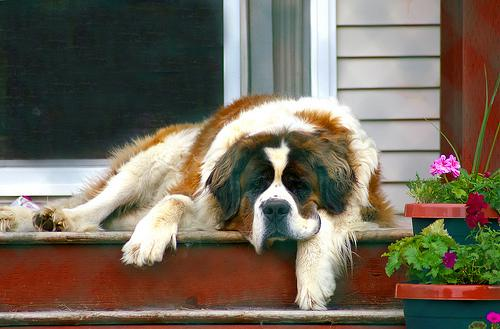dog-saint_bernard: (207, 127, 350, 252)
